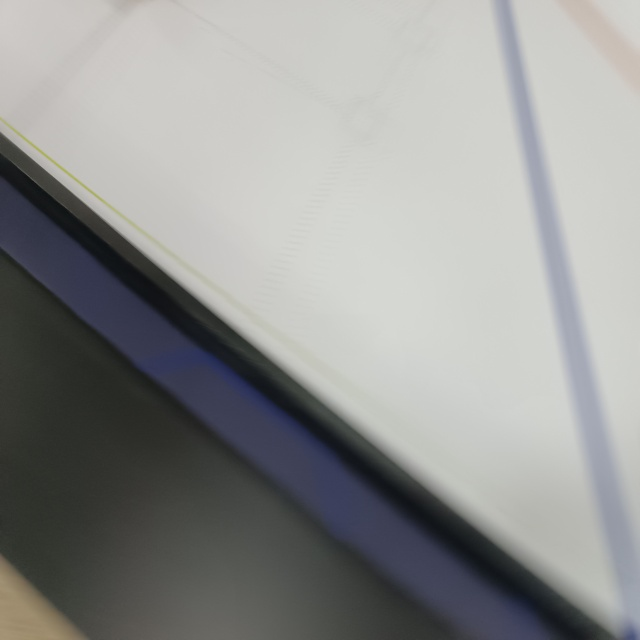blue line: (491, 0, 640, 635)
orange line: (551, 0, 636, 89)
